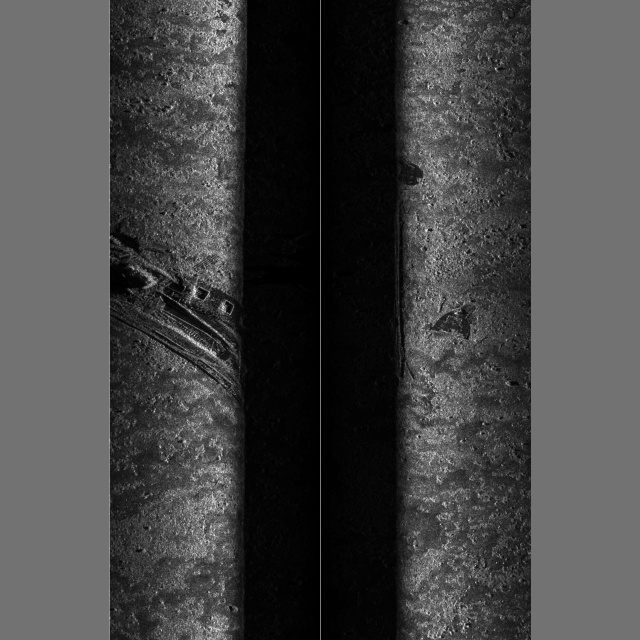Shipwreck: (109, 153, 487, 409)
